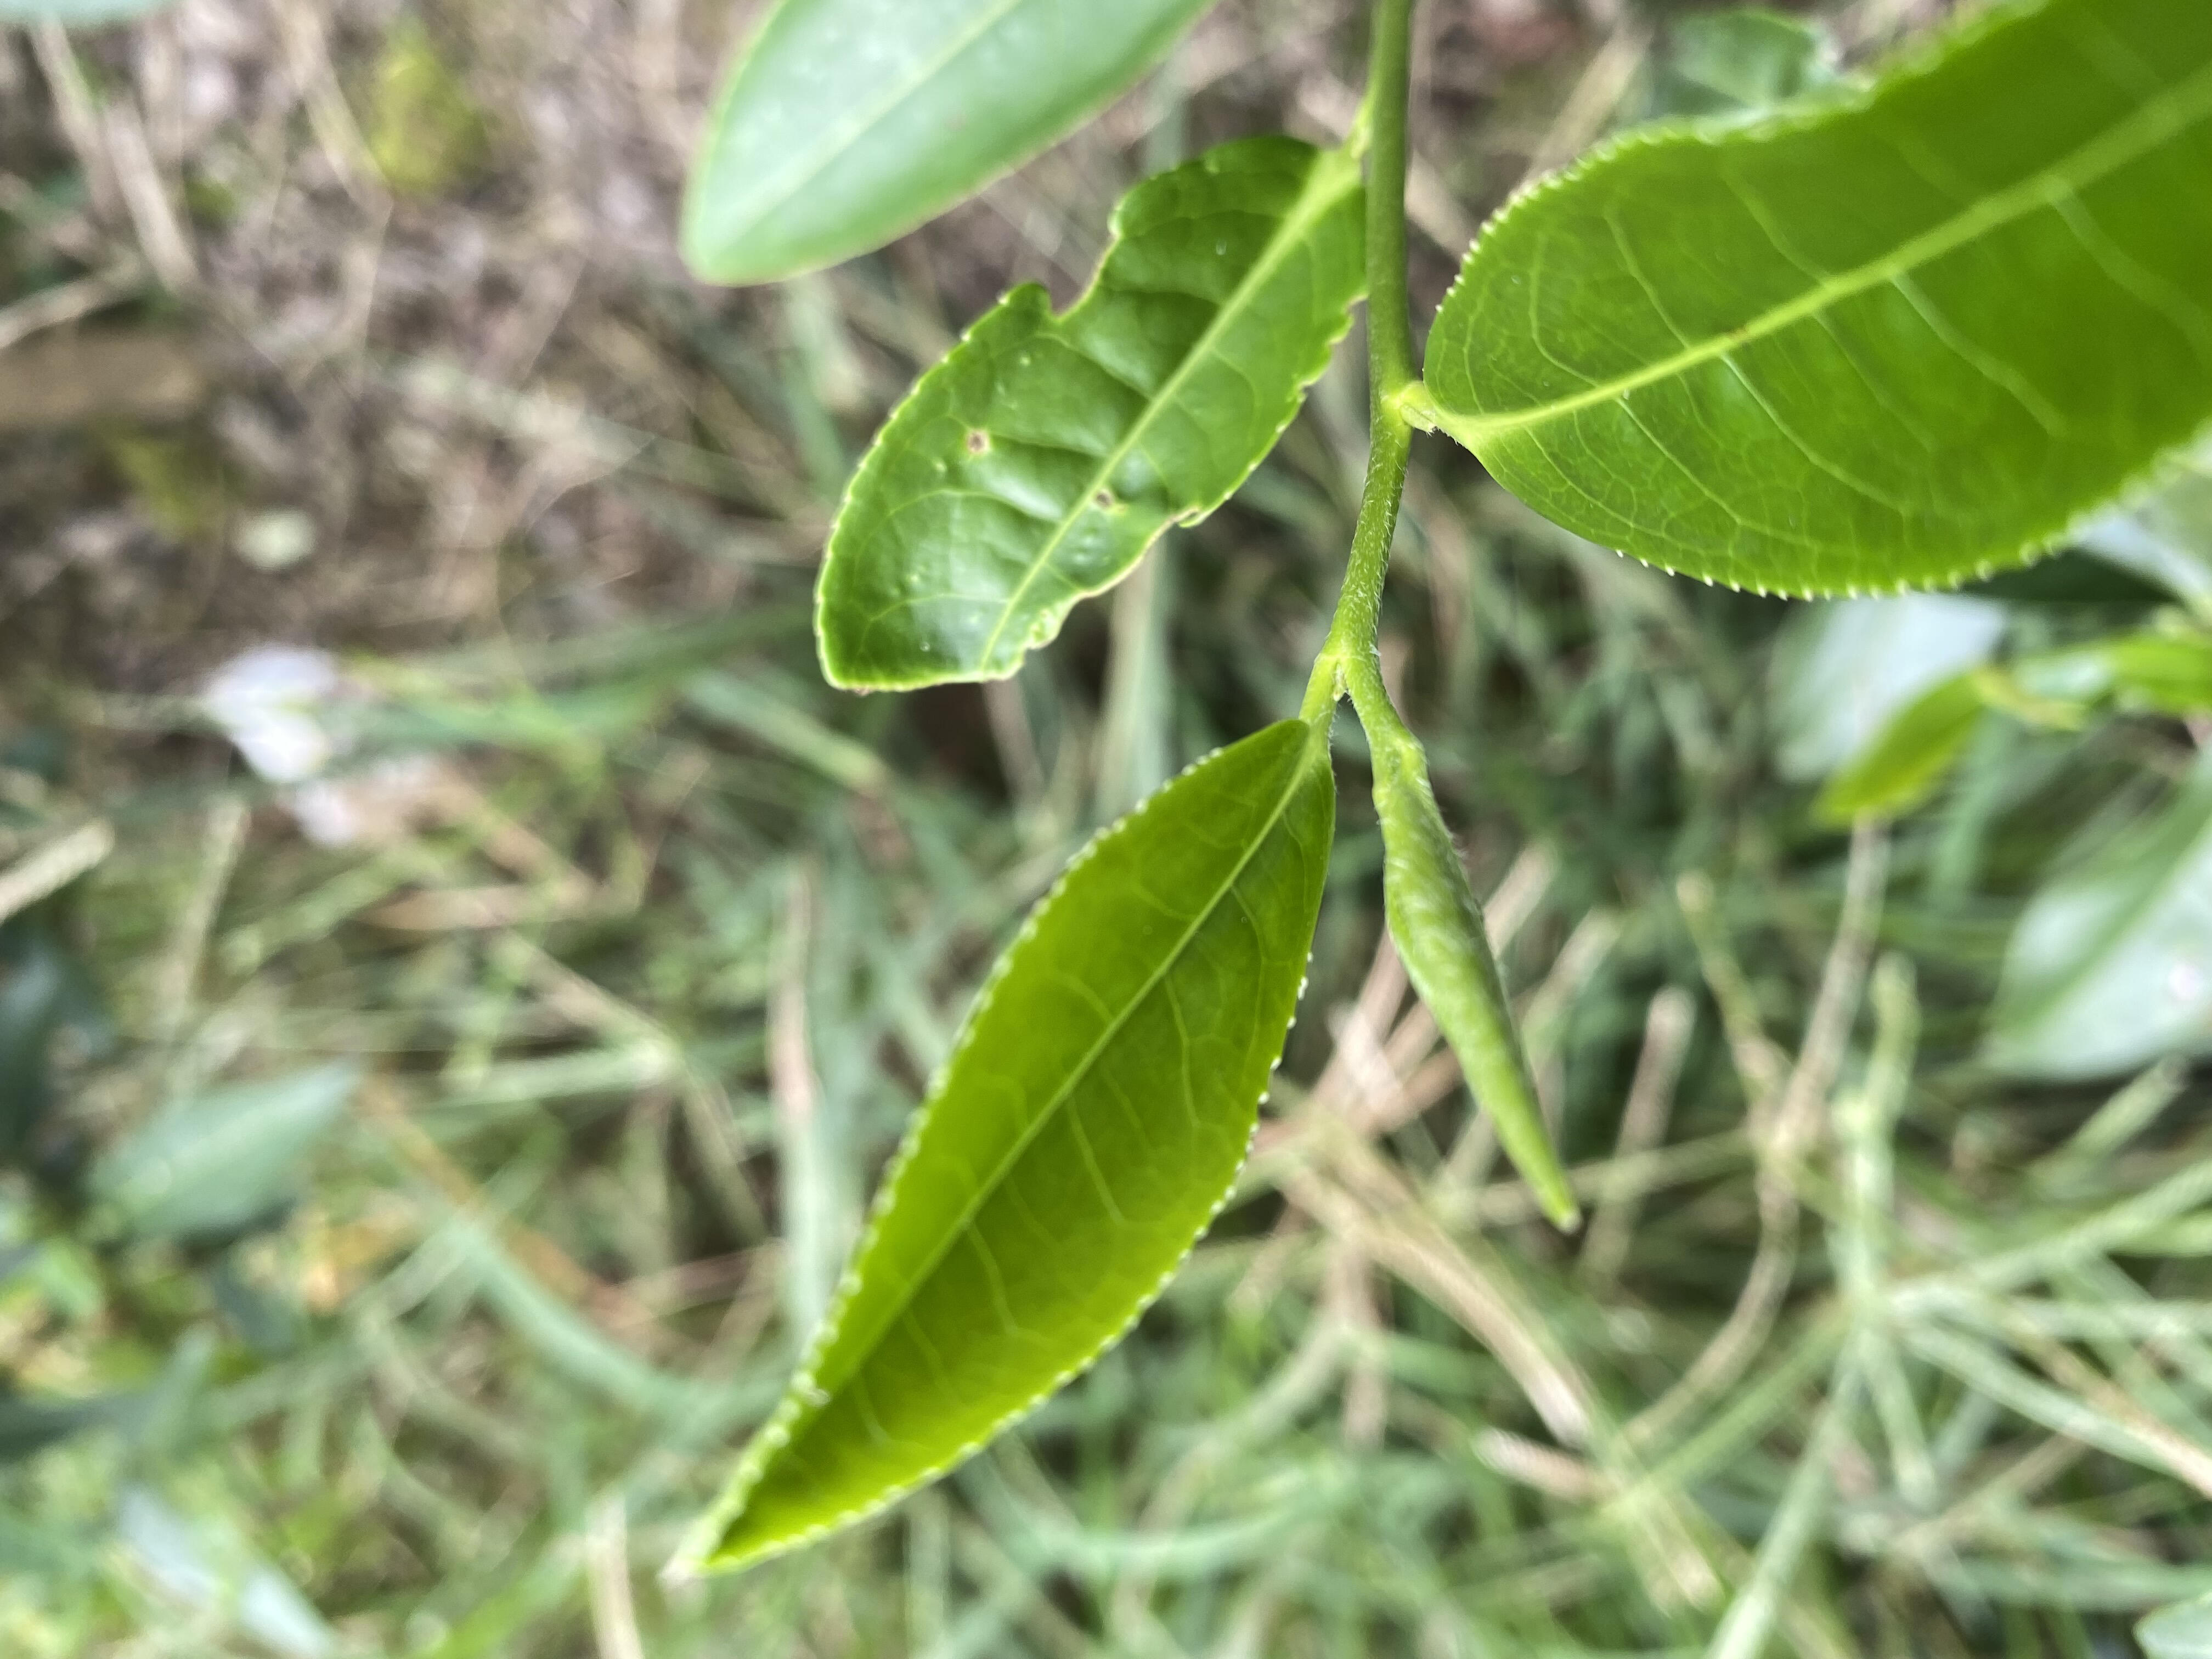chihuo_high: (810, 138, 1364, 701)
healthy: (685, 718, 1339, 1575), (1421, 5, 2210, 606)
